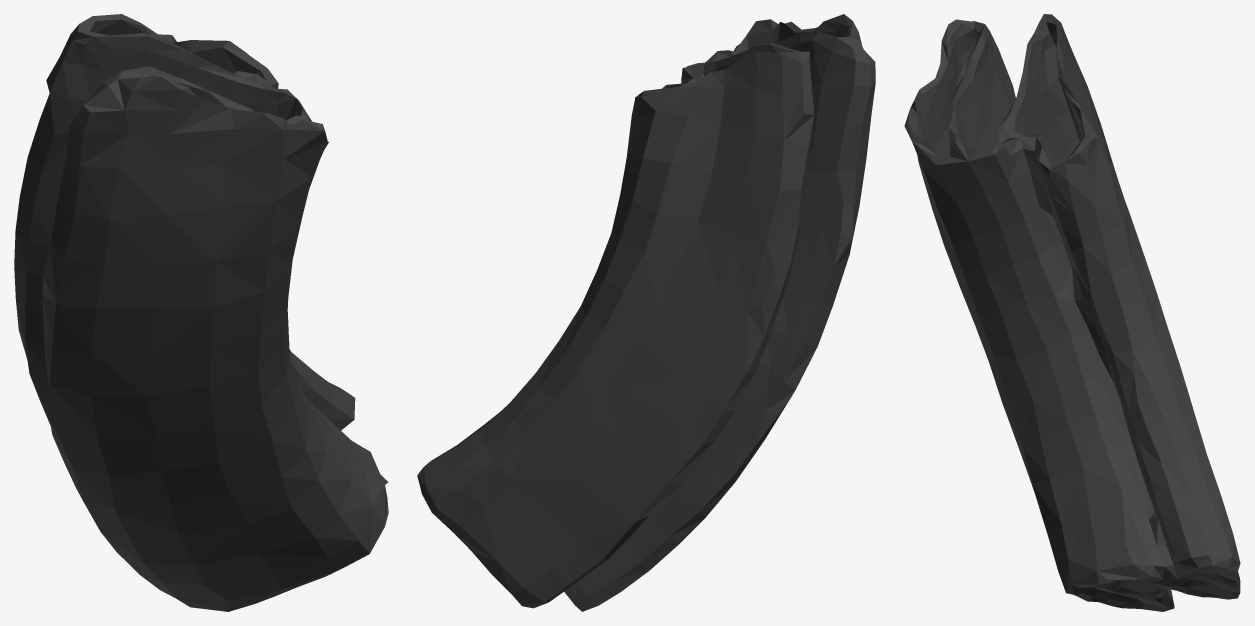
Rendered from Upper_M2_1.glb.
3 views of the same model, side by side, from view 1: azimuth 30°, elevation 25°; view 2: azimuth 150°, elevation 25°; view 3: azimuth 270°, elevation 25° (orthographic). The views are drawn at different scales.
Parts seen in each view (by area): view 1: Upper_M2_1; view 2: Upper_M2_1; view 3: Upper_M2_1.
Part boxes in pixels (x1,y1,x2,y2): Upper_M2_1: (14,14,388,611); Upper_M2_1: (417,14,875,611); Upper_M2_1: (904,14,1240,611).
Bounding box in the file's own units: 0.5458 × 0.8493 × 0.4934.
Materials: 1 (1 with a texture image).
